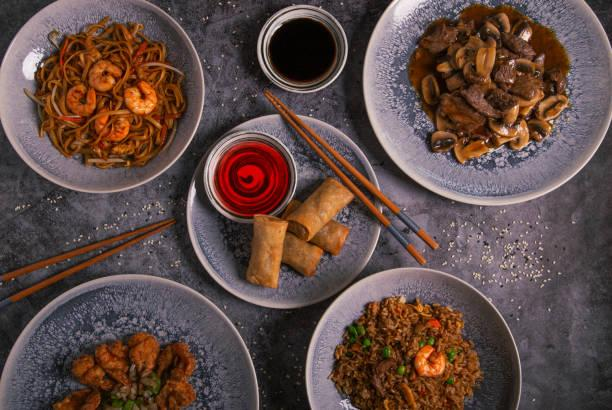Braised Crucian Carp: (363, 1, 609, 205), (2, 0, 205, 193), (186, 114, 381, 308), (0, 268, 262, 410), (304, 266, 523, 410)
